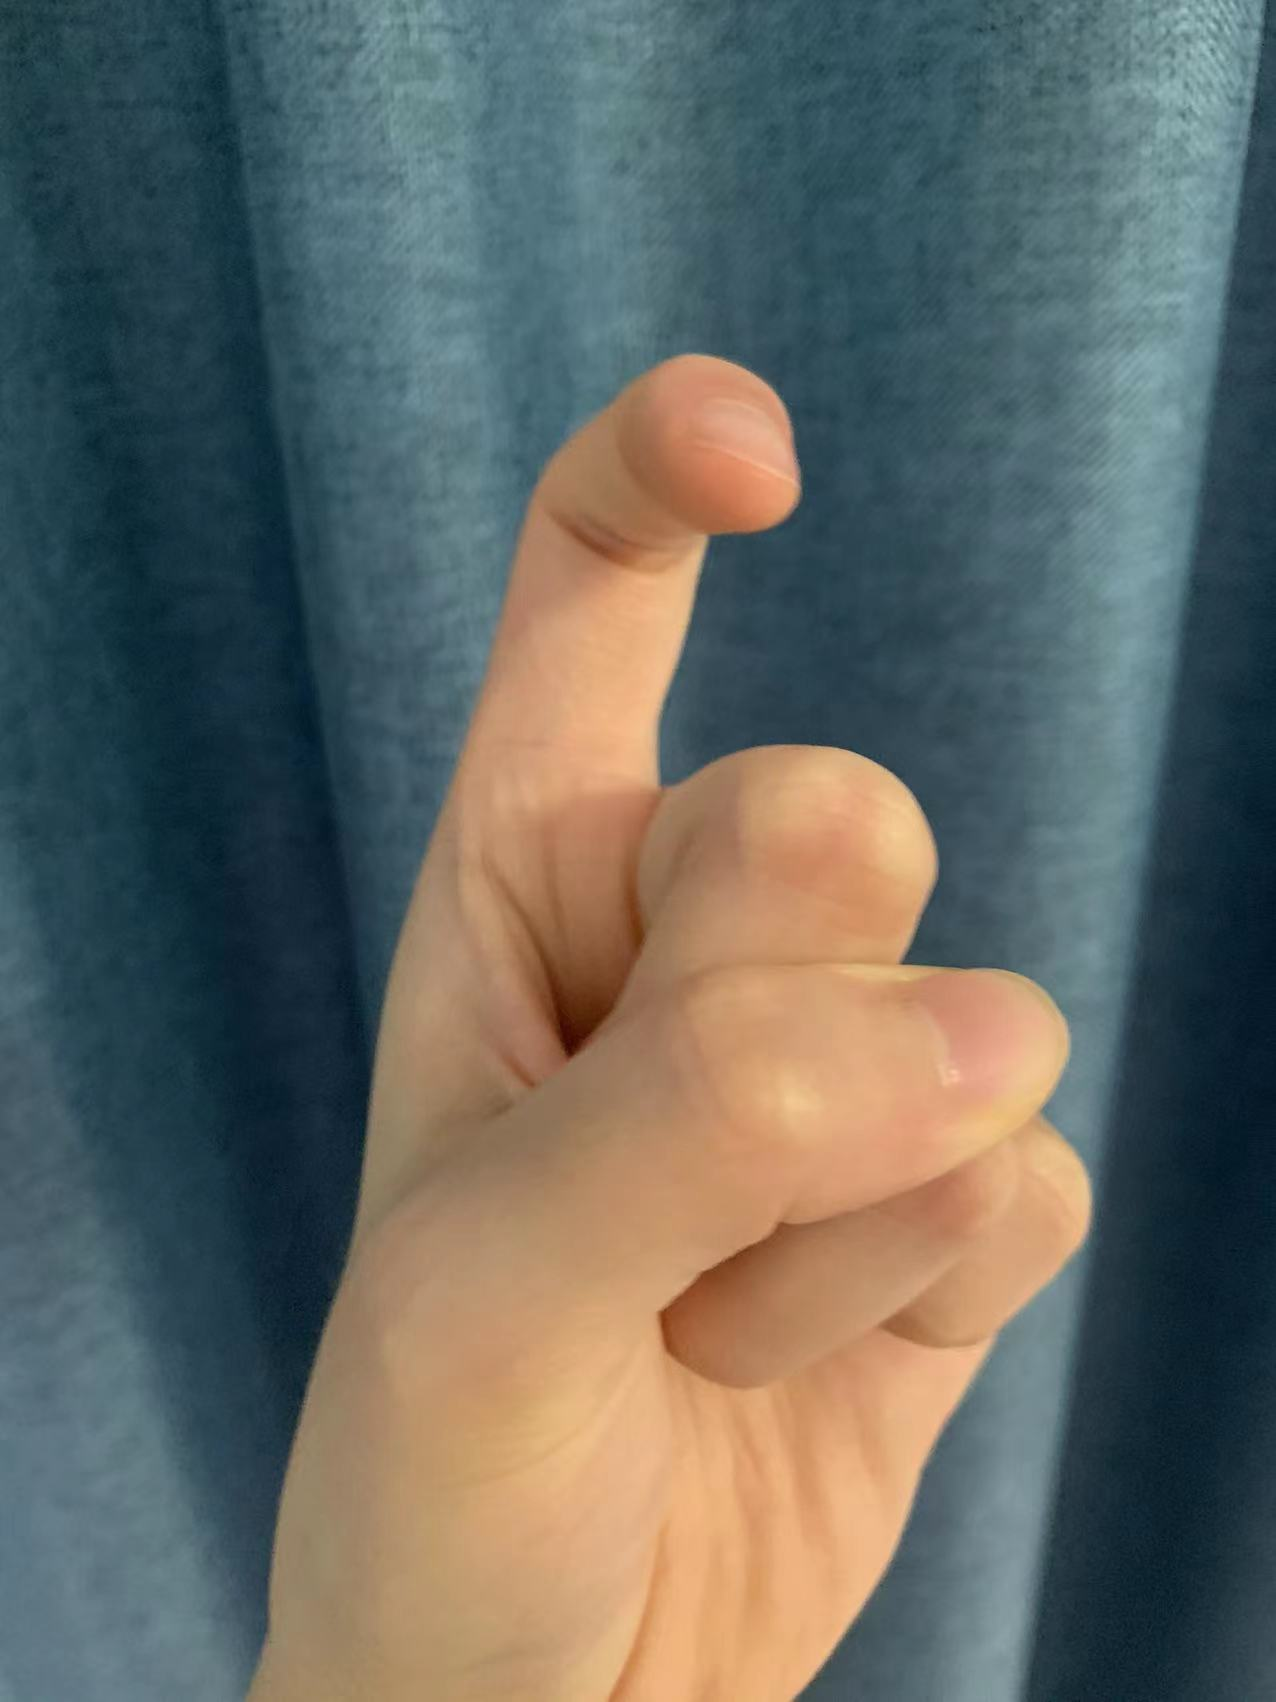anticlockwise: (255, 344, 1175, 1522)
